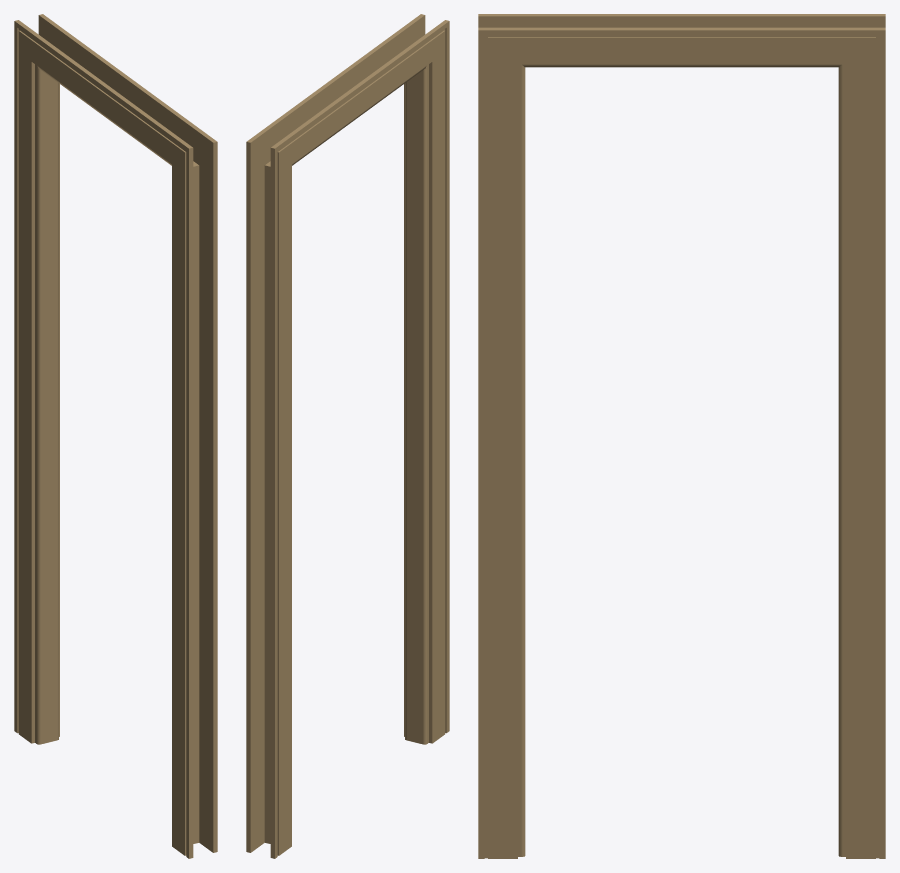
File: 29_VALENCIA_Frame.glb
3 views of the same model, side by side, from view 1: azimuth 30°, elevation 25°; view 2: azimuth 150°, elevation 25°; view 3: azimuth 270°, elevation 25° (orthographic). The views are drawn at different scales.
Parts seen in each view (by area): view 1: 29_VALENCIA_Frame; view 2: 29_VALENCIA_Frame; view 3: 29_VALENCIA_Frame.
Boxes of the visible parts, left/top/right/bottom form: 29_VALENCIA_Frame: left=14, top=14, right=217, bottom=858; 29_VALENCIA_Frame: left=246, top=14, right=449, bottom=858; 29_VALENCIA_Frame: left=478, top=14, right=885, bottom=858.
Size of the model in its own units: 0.098 by 2.34 by 1.04.
